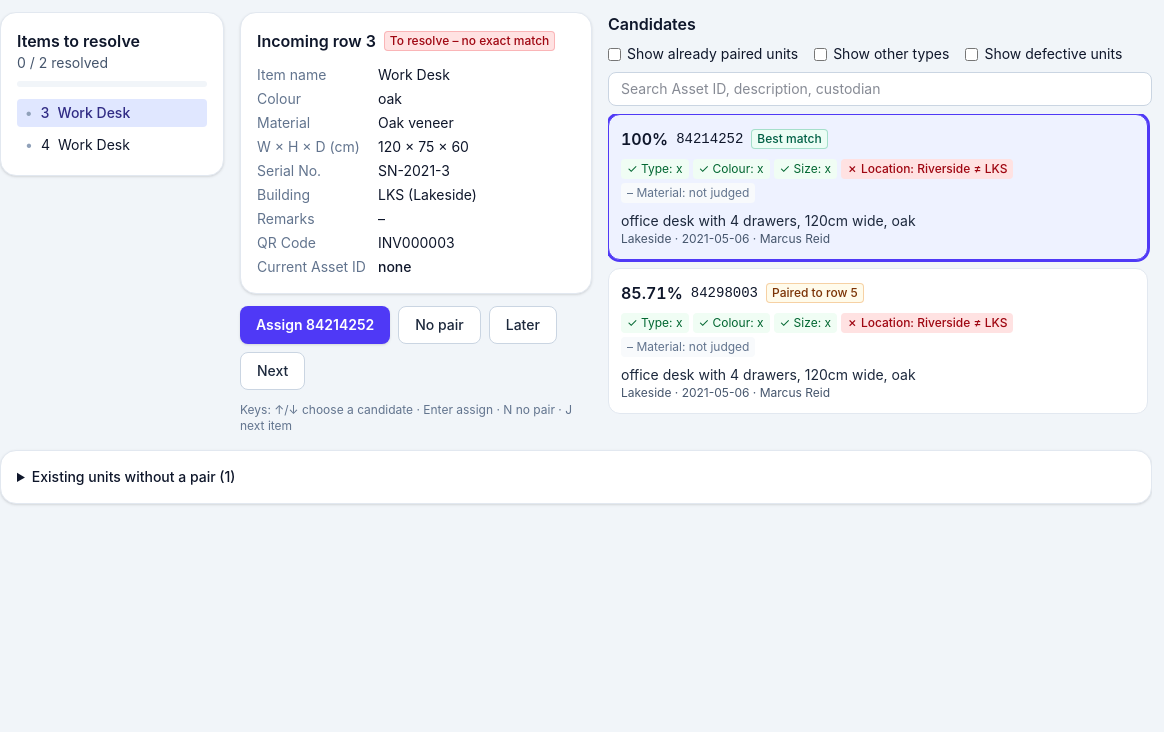
Later moves the item to the end of the queue; J jumps to the next
This screenshot has width=1164, height=732.
Click the button "Later". click: {"x": 523, "y": 325}
box: [489,306,557,344]
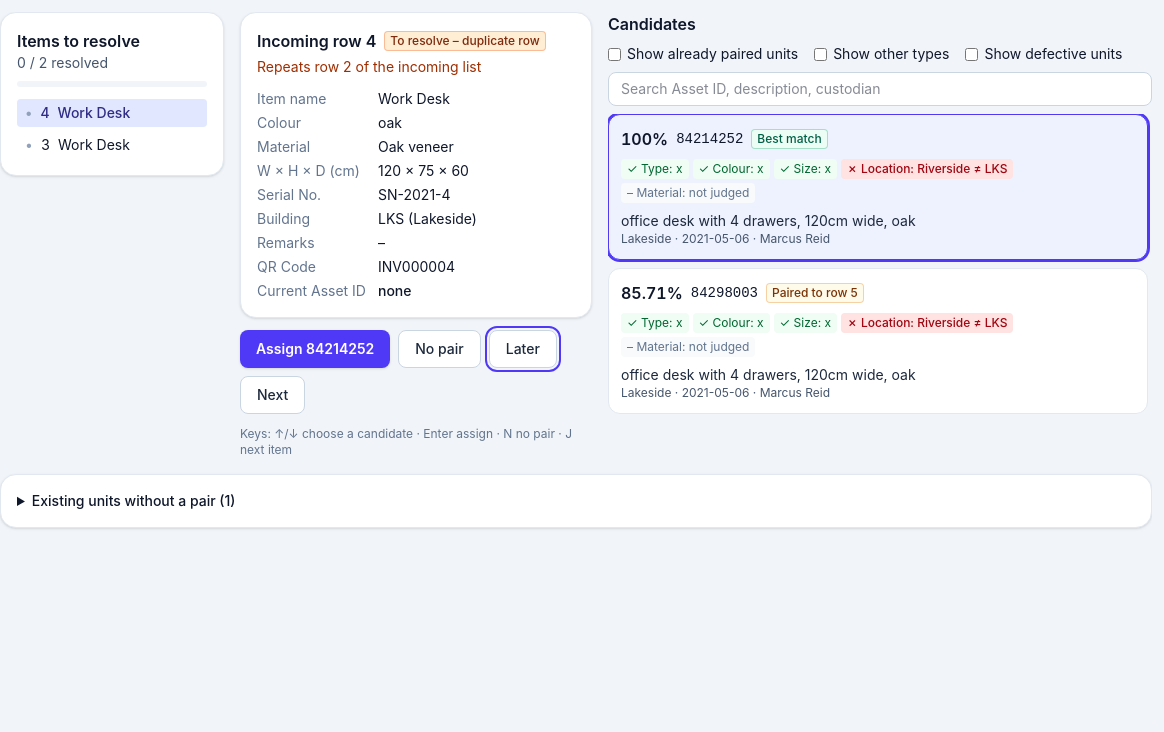
Expected: the element with test id "item-card" shows "Incoming row 4", [257,31,376,51]
Type keys "j"
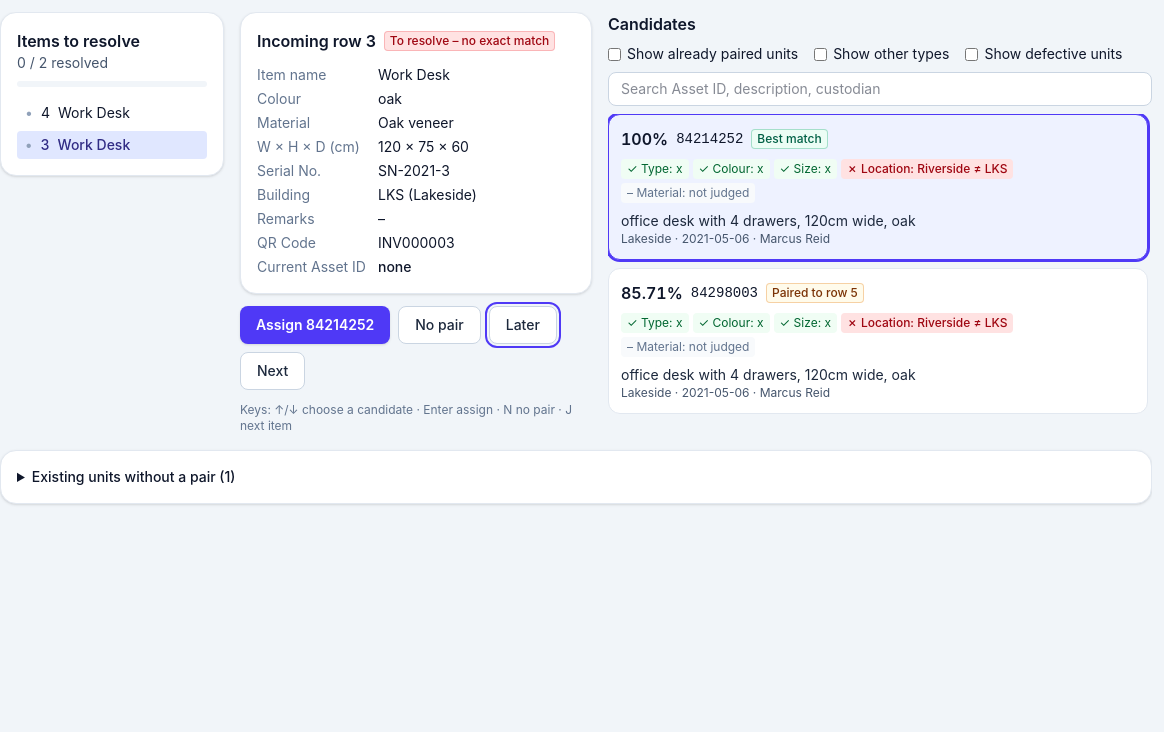
Expected: the element with test id "item-card" shows "Incoming row 3", [257,31,376,51]
